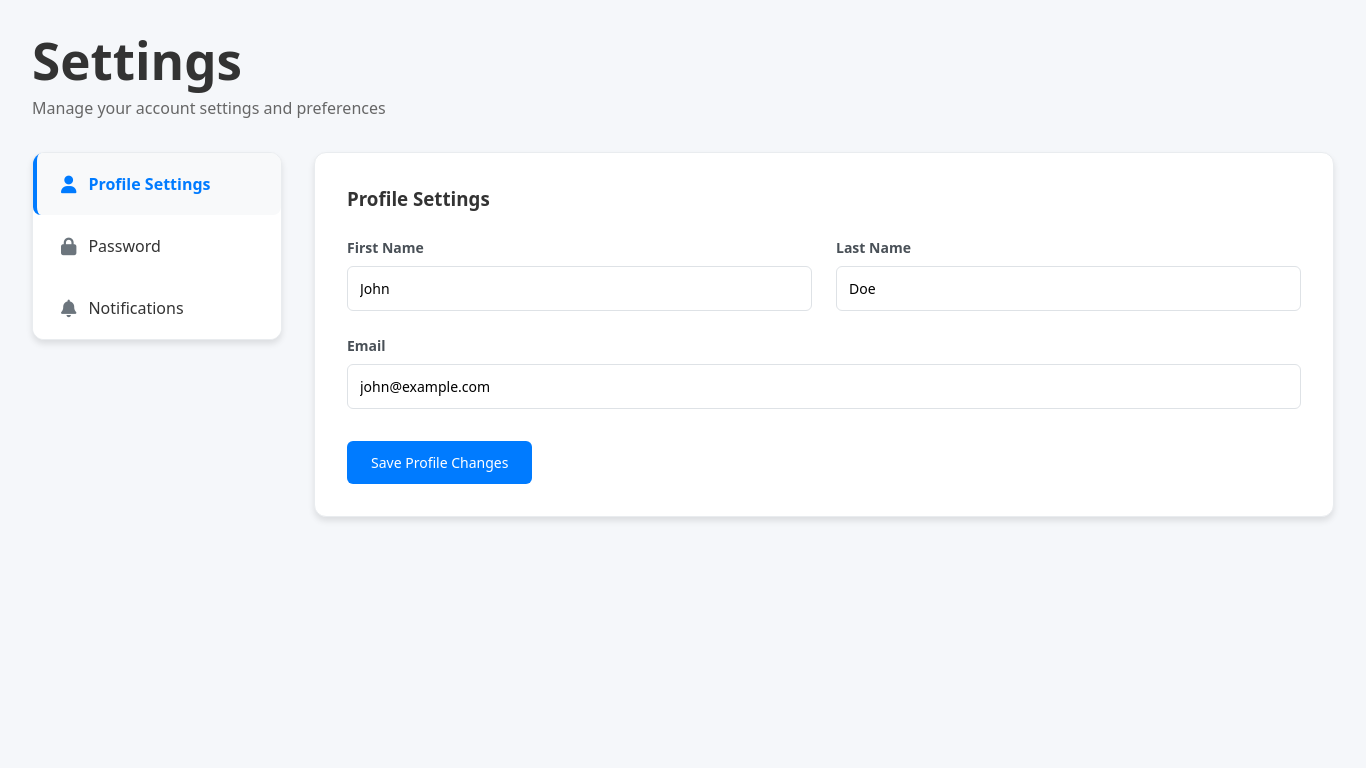
it: Settings Component › switches to notifications tab and shows notification settings
The image size is (1366, 768).
Check: the heading "Settings" is shown, box [32,25,242,95]
// Click notifications tab
Step 1. Click the button "Notifications" → x=157, y=308, box [33,277,281,339]
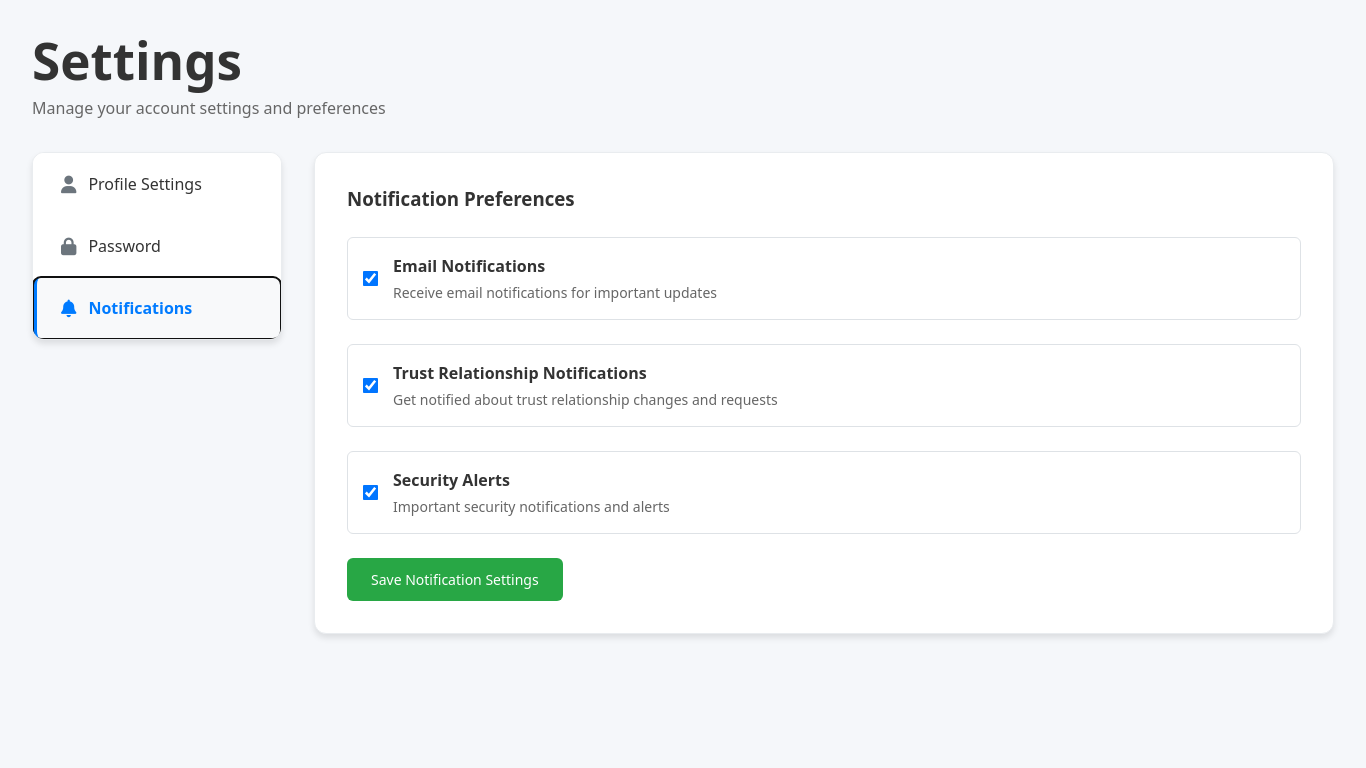
Check: the heading "Notification Preferences" is shown, box [347,186,575,211]
Check: the text "Email Notifications" is shown, box [393,255,545,277]
Check: the text "Trust Relationship Notifications" is shown, box [393,362,647,384]
